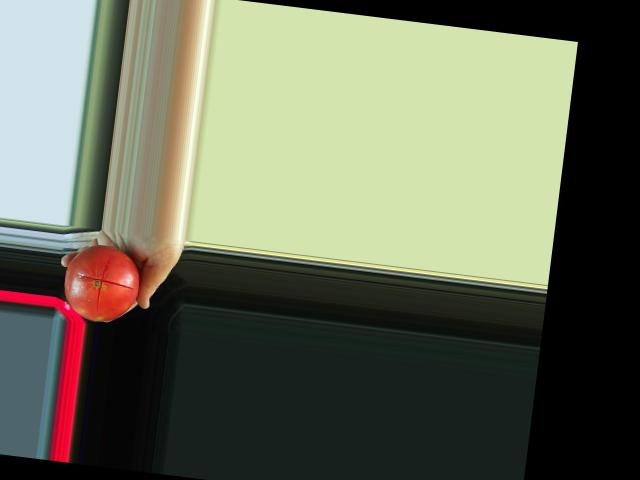tomato: (59, 240, 143, 325)
